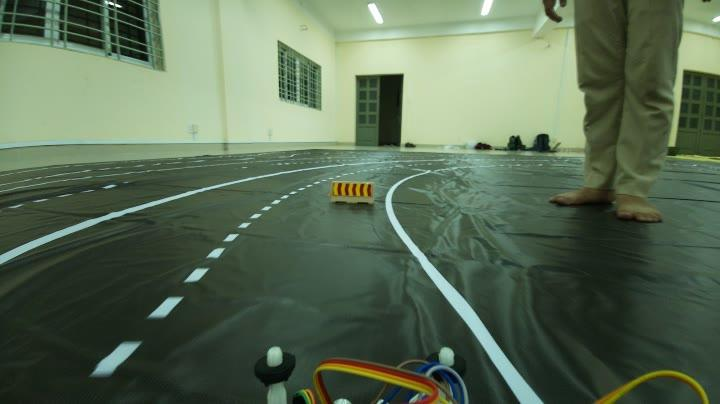roadblock: (330, 178, 373, 204)
